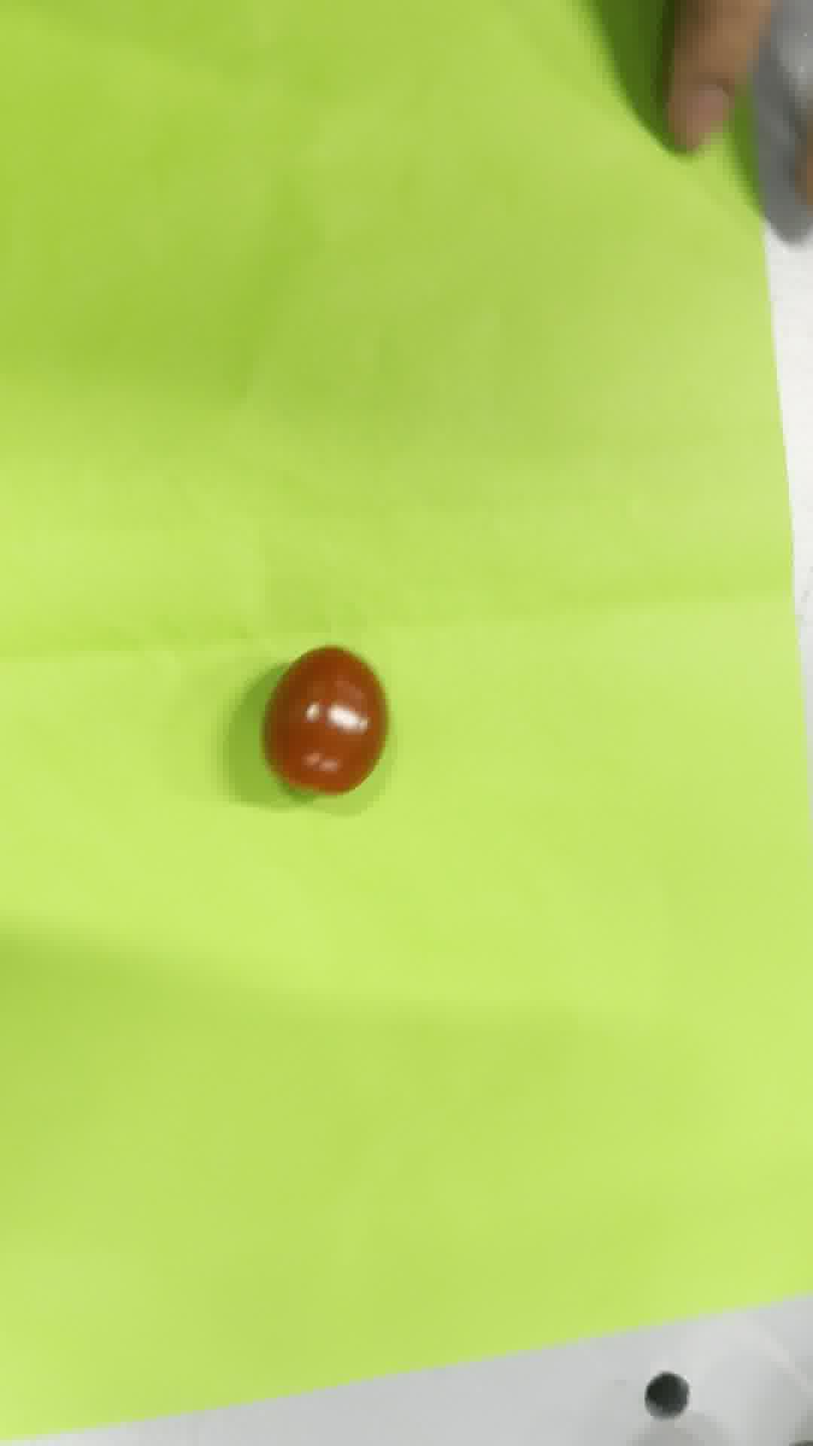red_cherry_tomato: (262, 645, 388, 795)
